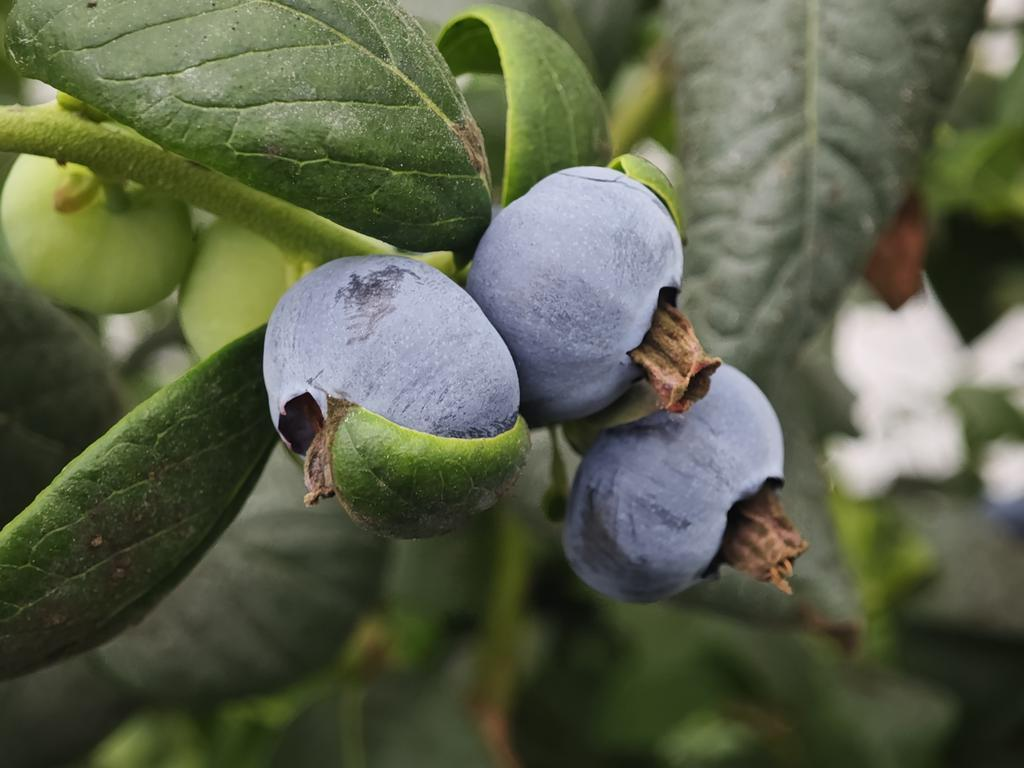RipeBlueBerry: (259, 253, 527, 501), (554, 355, 796, 610), (473, 163, 697, 433)
